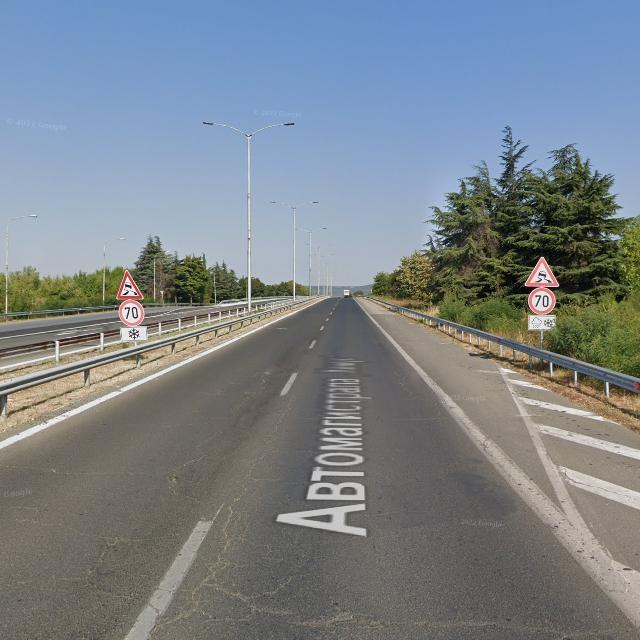forb_speed_over_70: (118, 299, 144, 327)
